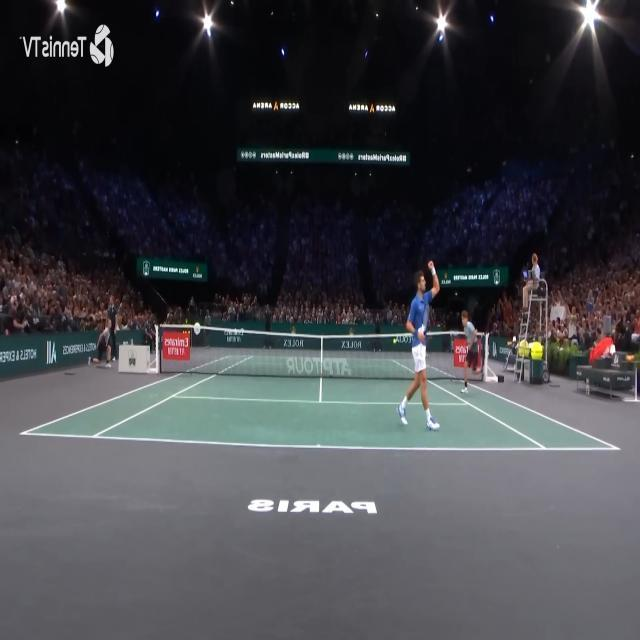court: (18, 354, 621, 452)
net: (154, 323, 488, 381)
player: (396, 260, 441, 430)
